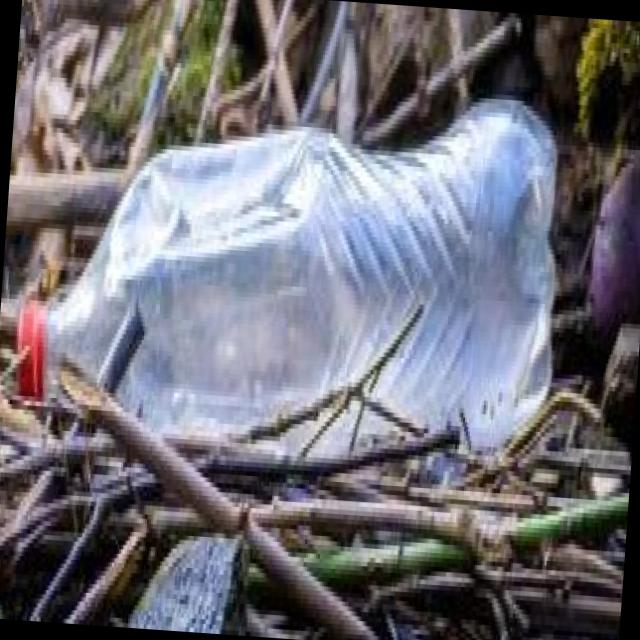general: (10, 58, 573, 487)
